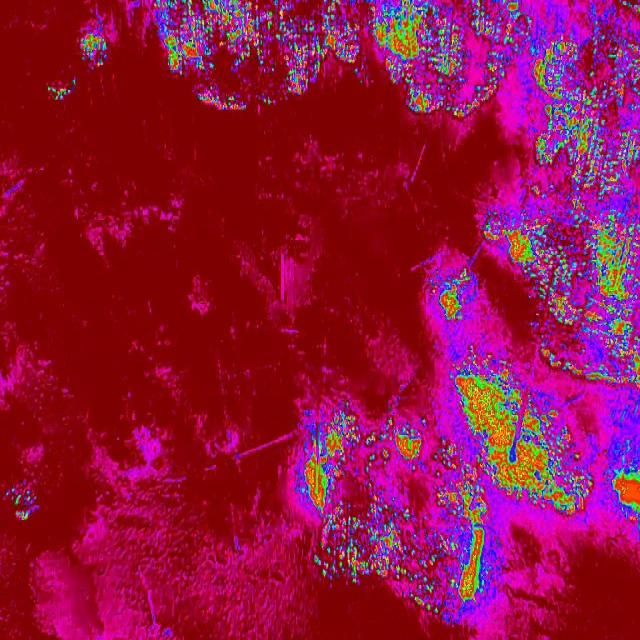fire: (290, 410, 499, 620), (372, 0, 640, 114), (444, 358, 596, 520), (155, 0, 357, 109), (486, 209, 640, 297), (518, 114, 640, 210), (533, 297, 640, 391), (434, 264, 478, 322), (610, 460, 640, 524), (74, 22, 112, 69), (8, 482, 39, 520)
